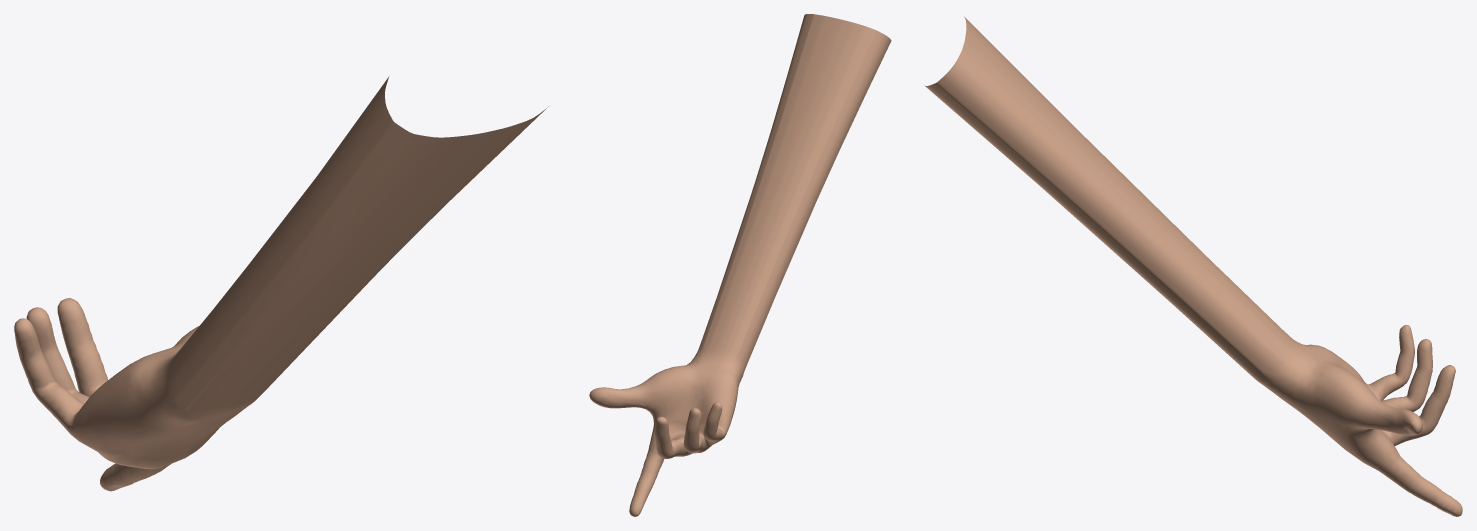
The model's file is hand.glb.
3 renders of one model, left to right at view 1: azimuth 30°, elevation 25°; view 2: azimuth 150°, elevation 25°; view 3: azimuth 270°, elevation 25°, orthographic. The views are drawn at different scales.
Parts seen in each view (by area): view 1: HandSkinExport; view 2: HandSkinExport; view 3: HandSkinExport.
Part boxes in pixels (x1,y1,x2,y2): HandSkinExport: (14,77,548,490); HandSkinExport: (589,14,891,516); HandSkinExport: (924,16,1462,516).
Bounding box in the file's own units: 4.06 × 11.05 × 11.41.
